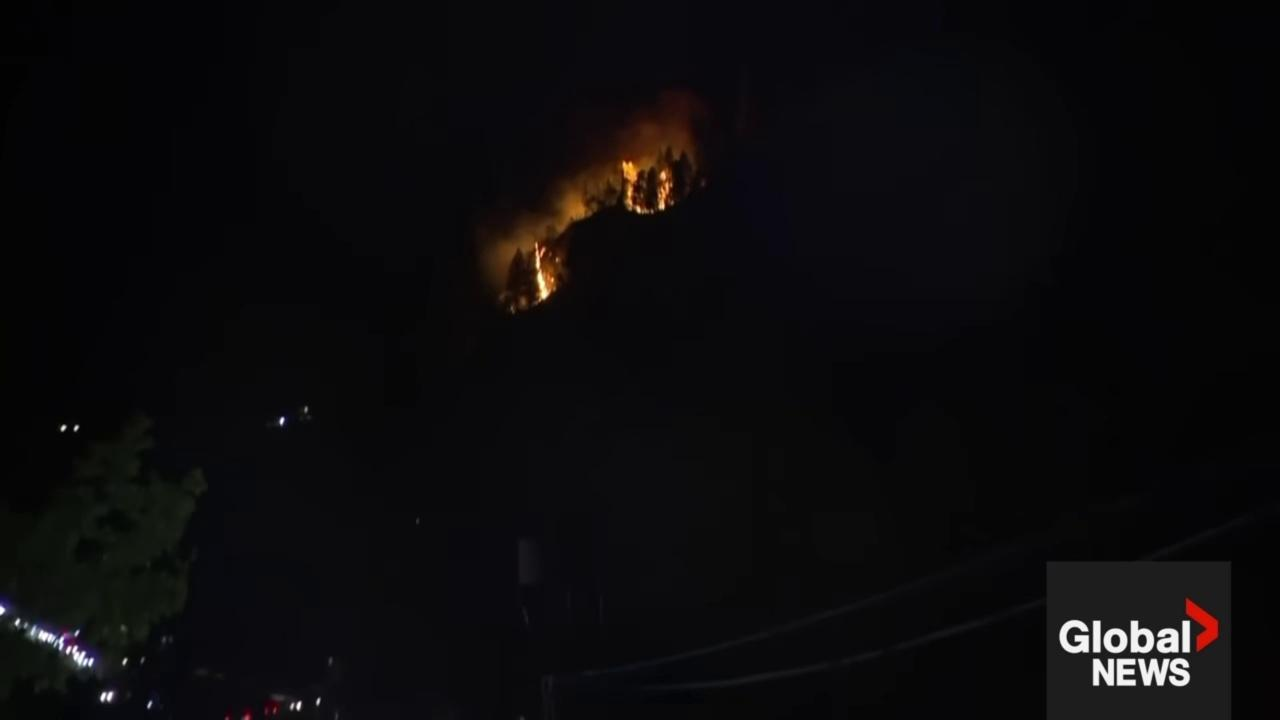fire: (622, 160, 675, 215), (535, 241, 555, 302)
smoke: (474, 85, 706, 314)
